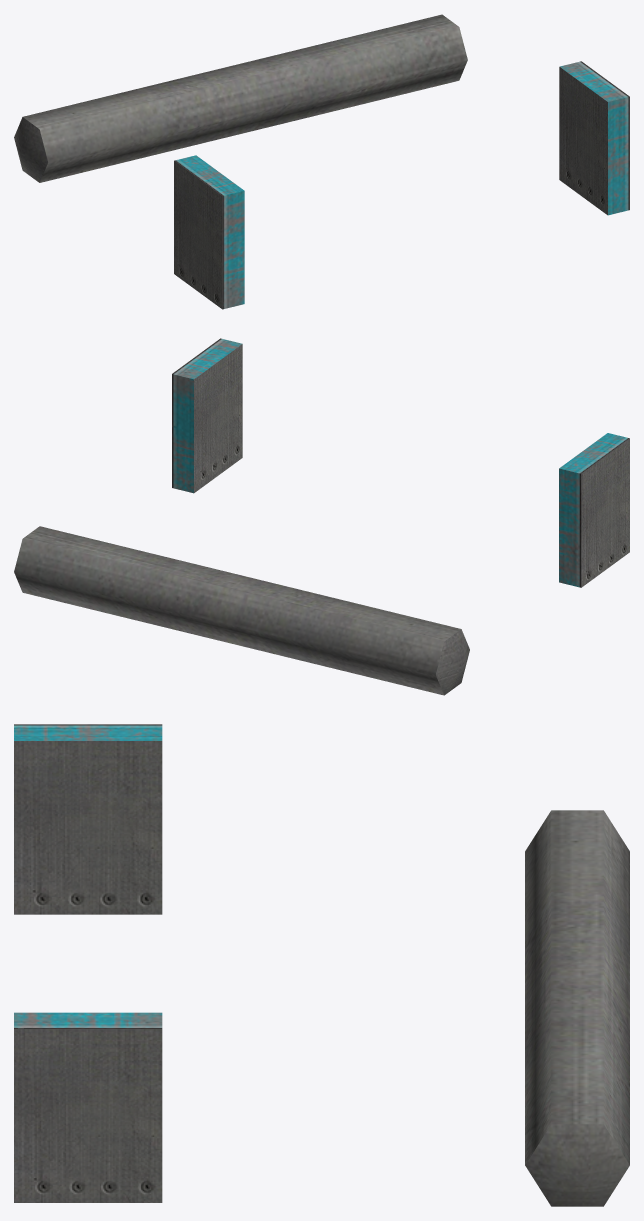
The model's file is M_Home_Garden_Diving_Board_Holder.fbx.
The picture shows the model from 3 angles, top to bottom: view 1: azimuth 30°, elevation 25°; view 2: azimuth 150°, elevation 25°; view 3: azimuth 270°, elevation 25°; orthographic projection. The views are drawn at different scales.
Parts seen in each view (by area): view 1: M_Home_Garden_Diving_Board_Holder; view 2: M_Home_Garden_Diving_Board_Holder; view 3: M_Home_Garden_Diving_Board_Holder.
Boxes of the visible parts, box(x1,y1,x2,y2) form: M_Home_Garden_Diving_Board_Holder: box(14, 14, 629, 309); M_Home_Garden_Diving_Board_Holder: box(14, 338, 629, 695); M_Home_Garden_Diving_Board_Holder: box(14, 724, 629, 1206).
Size of the model in its own units: 119 by 29.16 by 93.62.
